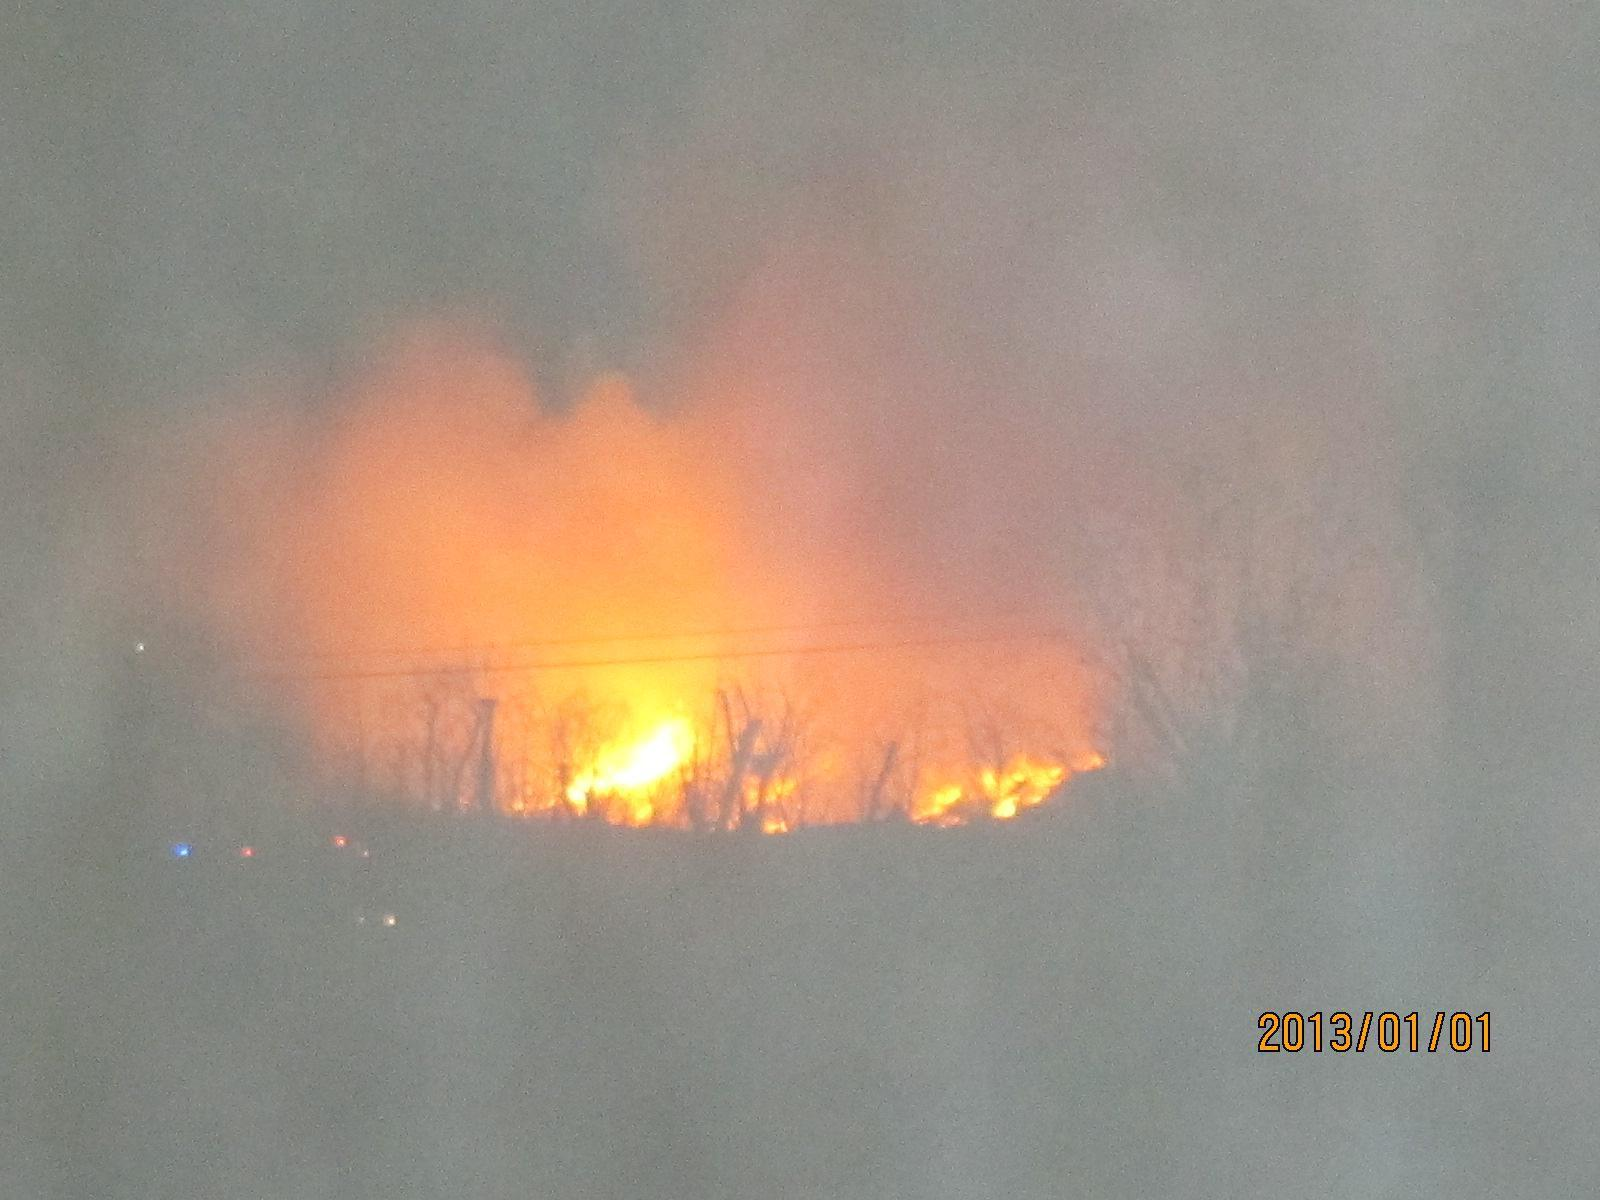fire: (528, 662, 815, 846), (916, 744, 1138, 837)
